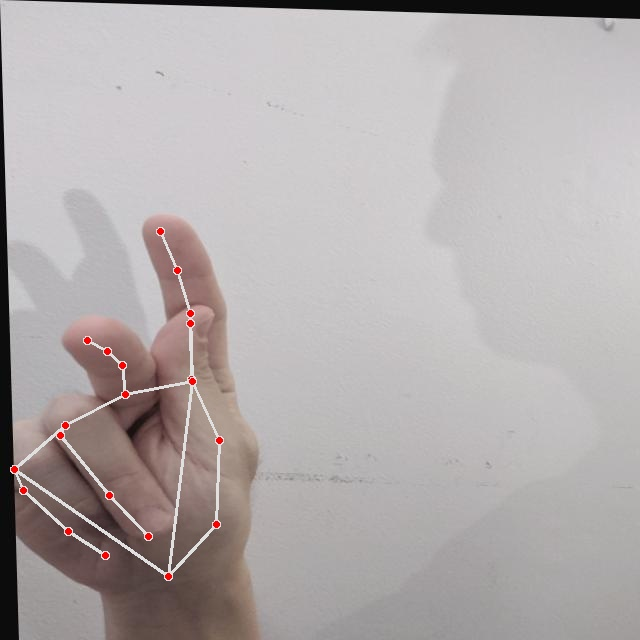K: (5, 198, 273, 609)
